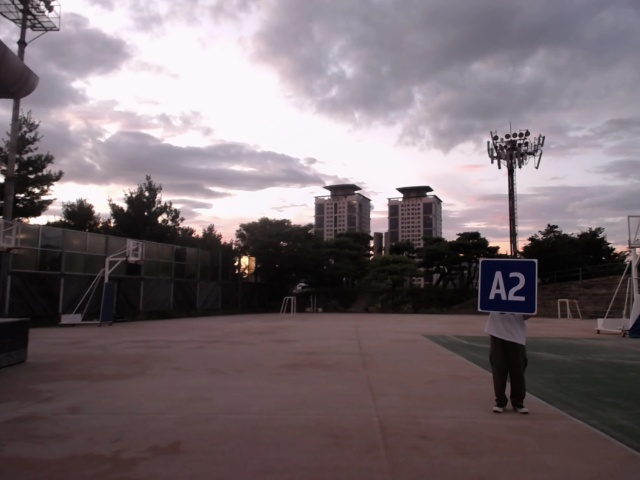delivery_a2: (479, 259, 537, 313)
